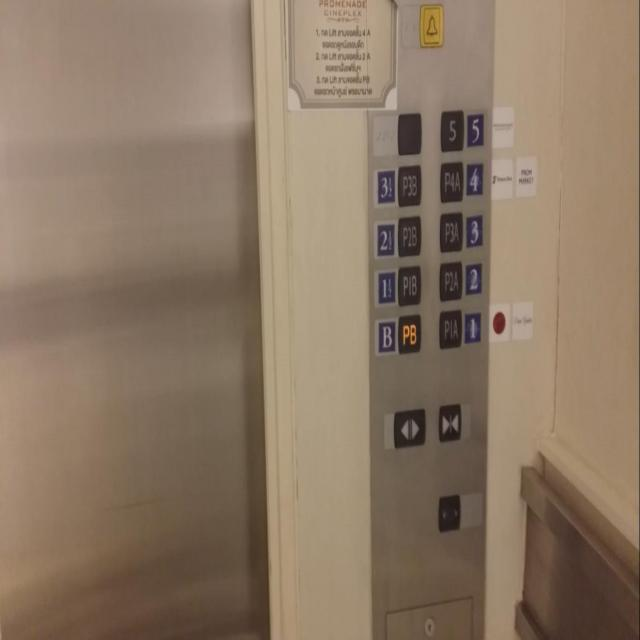1: (463, 310, 482, 344)
2: (464, 260, 482, 294)
3: (464, 211, 483, 247)
4: (465, 158, 484, 198)
5: (439, 106, 464, 152), (466, 108, 484, 148)
B: (377, 318, 395, 352)
P1A: (438, 306, 462, 348)
P1B: (396, 262, 422, 306)
P2A: (438, 258, 462, 301)
P2B: (396, 212, 422, 258)
P3A: (438, 208, 464, 252)
P3B: (396, 162, 422, 206)
P4A: (439, 158, 464, 204)
PB: (396, 310, 422, 355)
blur: (435, 491, 462, 534)
close: (437, 401, 461, 443)
empty: (396, 109, 422, 156)
open: (391, 407, 427, 448)
text_1-5: (376, 269, 395, 303)
text_2-5: (376, 222, 394, 256)
text_3-5: (376, 169, 394, 203)
